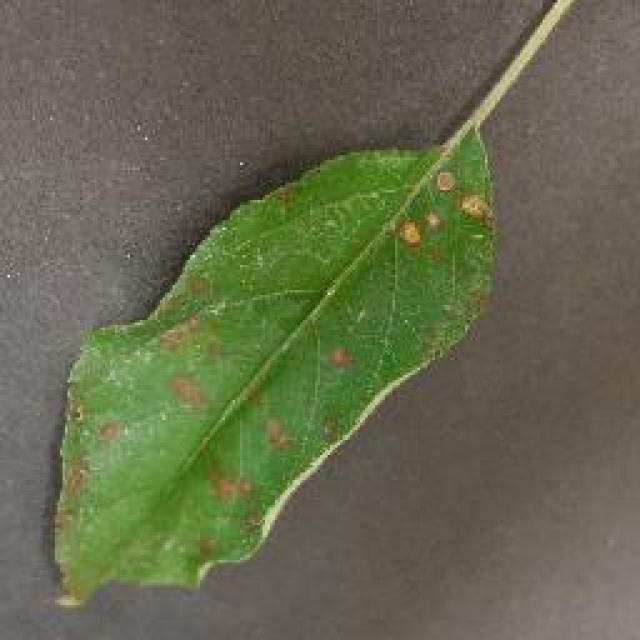apple cedar apple rust: (48, 123, 500, 605)
